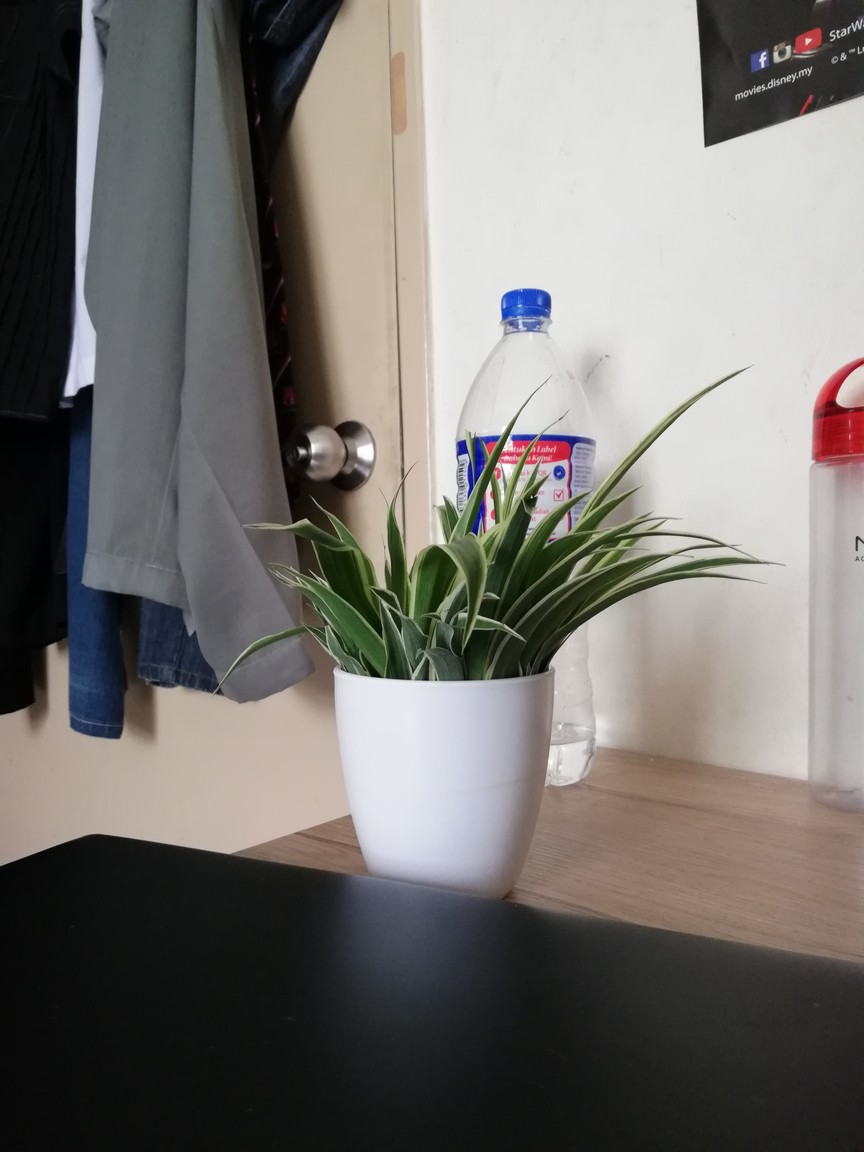daun: (621, 361, 755, 484), (208, 628, 299, 698), (445, 547, 478, 652), (385, 458, 420, 548), (240, 515, 325, 549), (498, 372, 553, 423), (309, 493, 356, 543), (519, 413, 566, 457), (543, 487, 594, 525), (363, 580, 410, 620), (663, 571, 771, 588), (682, 555, 787, 570), (477, 614, 526, 645), (650, 541, 743, 557), (598, 484, 646, 513), (378, 597, 397, 649), (298, 617, 328, 647), (522, 474, 553, 501), (440, 493, 460, 530), (269, 568, 302, 589), (413, 647, 448, 666), (591, 546, 651, 557), (523, 457, 544, 486), (267, 560, 301, 576), (306, 564, 329, 587), (498, 454, 510, 495), (646, 515, 672, 532), (479, 586, 501, 603), (632, 508, 656, 521), (417, 609, 437, 620)
